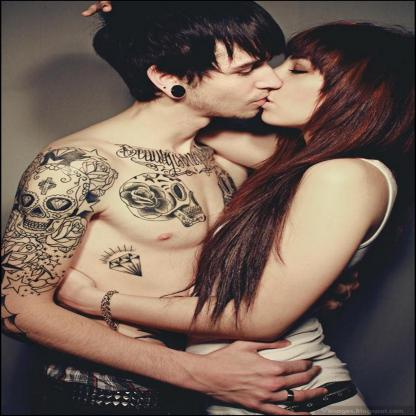face: (263, 27, 365, 124), (189, 24, 284, 119)
